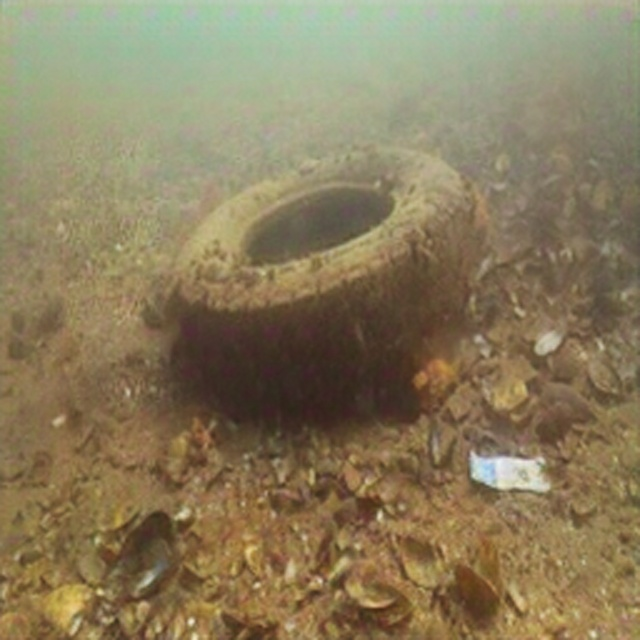mine: (172, 145, 470, 427)
